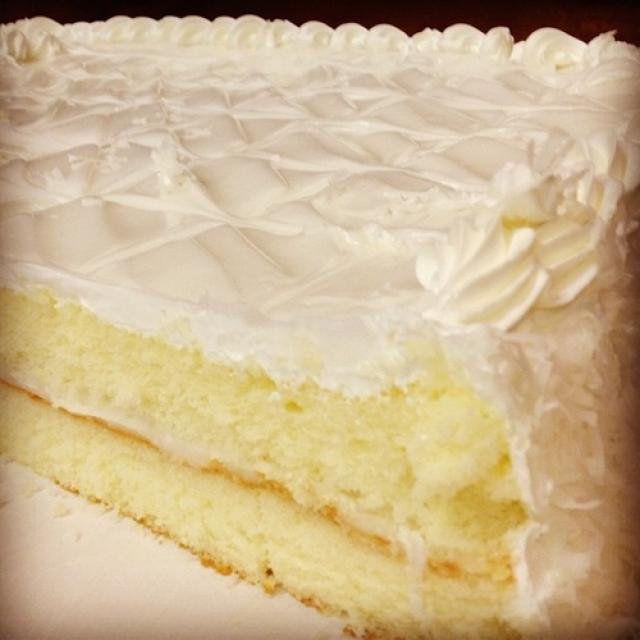蛋糕甜品: (8, 18, 626, 631)
